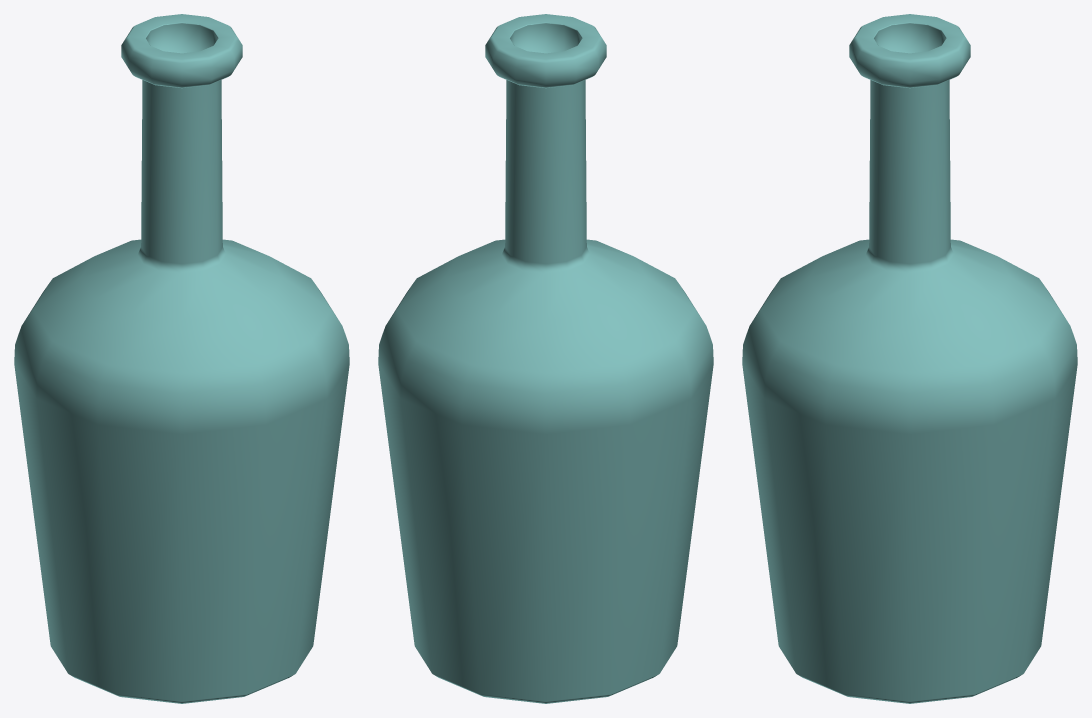
File: SM_Potion_06_Unity.fbx
3 views of the same model, side by side, from view 1: azimuth 30°, elevation 25°; view 2: azimuth 150°, elevation 25°; view 3: azimuth 270°, elevation 25° (orthographic).
Parts seen in each view (by area): view 1: SM_Potion_06; view 2: SM_Potion_06; view 3: SM_Potion_06.
Boxes of the visible parts, <box> form: SM_Potion_06: <box>14,14,349,703</box>; SM_Potion_06: <box>378,14,713,703</box>; SM_Potion_06: <box>742,14,1077,703</box>.
Bounding box in the file's own units: 12.88 × 26.04 × 12.88.
